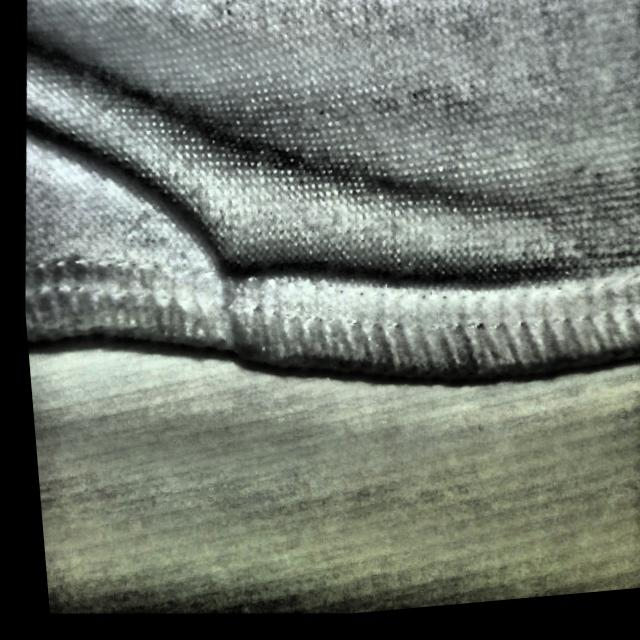seam: (81, 101, 409, 400)
